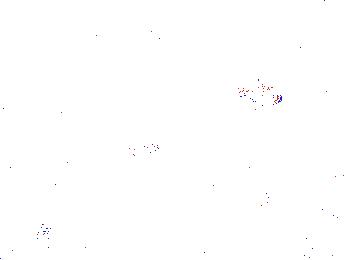glassfish: (44, 136, 163, 185)
red belly glassfish: (233, 87, 284, 108), (127, 21, 163, 47)
redtail glassfish: (290, 29, 346, 53)
